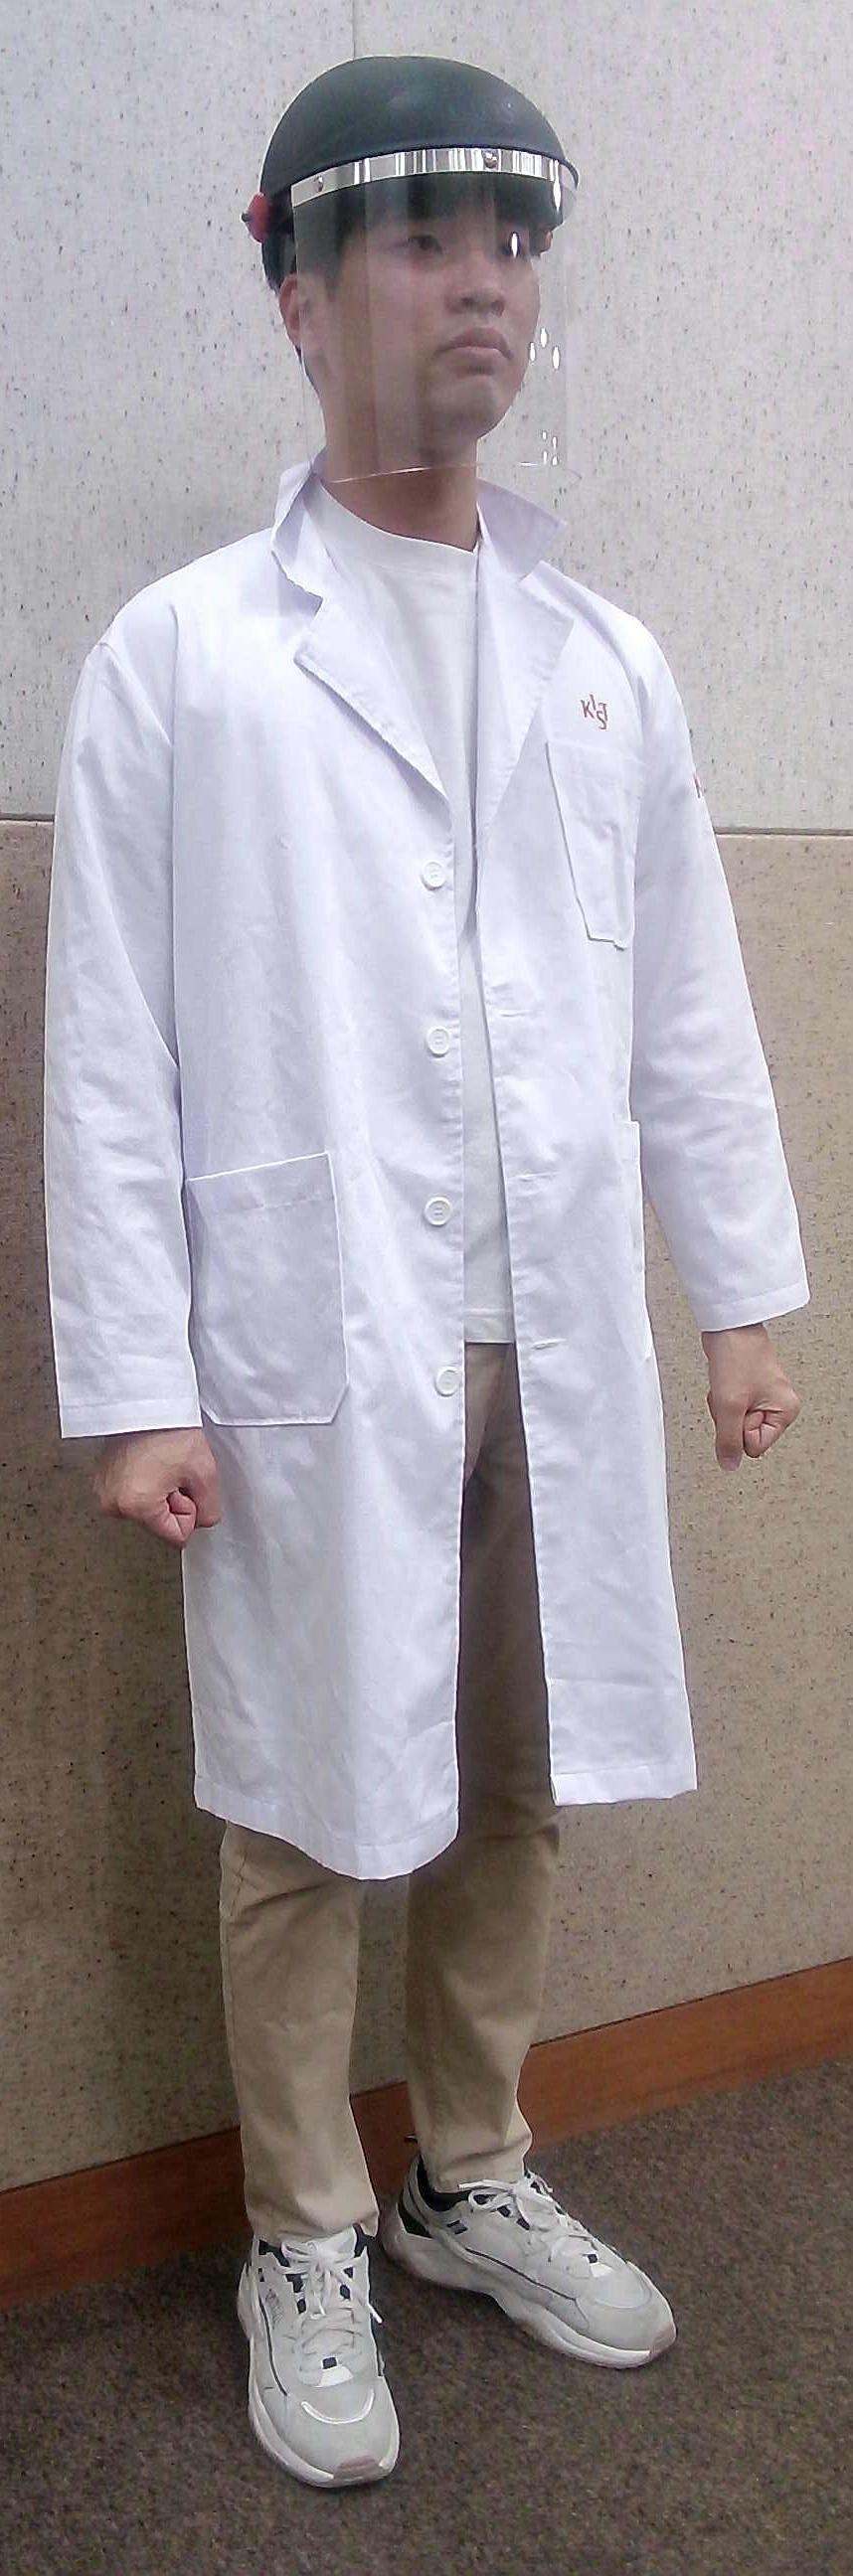lab_coat: (169, 522, 695, 1837)
